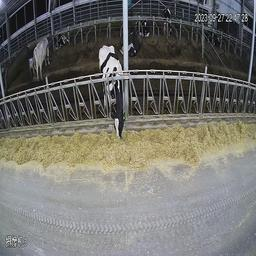cow: (97, 42, 123, 141), (33, 36, 50, 82), (160, 5, 174, 38), (128, 24, 140, 61), (205, 25, 222, 47), (53, 32, 72, 49), (138, 15, 151, 39)
